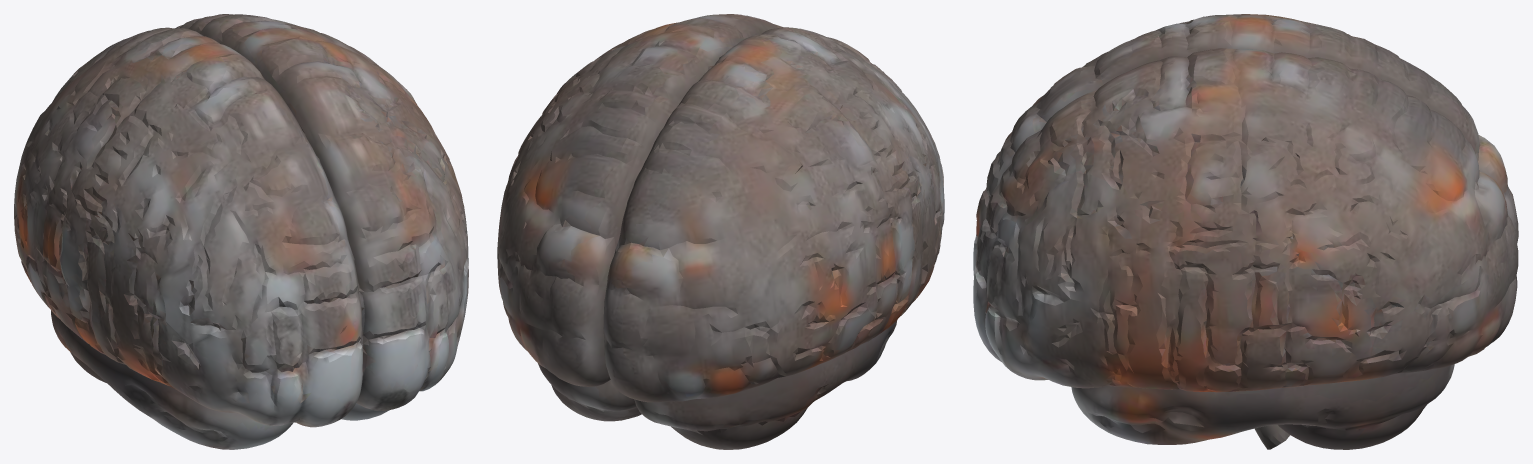
Rendered from brain.glb.
3 views of the same model, side by side, from view 1: azimuth 30°, elevation 25°; view 2: azimuth 150°, elevation 25°; view 3: azimuth 270°, elevation 25° (orthographic). The views are drawn at different scales.
Parts seen in each view (by area): view 1: model; view 2: model; view 3: model.
Part boxes in pixels (bbox=[...]): model: bbox=[14, 14, 468, 449]; model: bbox=[497, 14, 944, 449]; model: bbox=[973, 14, 1518, 449].
Size of the model in its own units: 1.53 by 1.57 by 1.9.
1 material, 1 textured.
